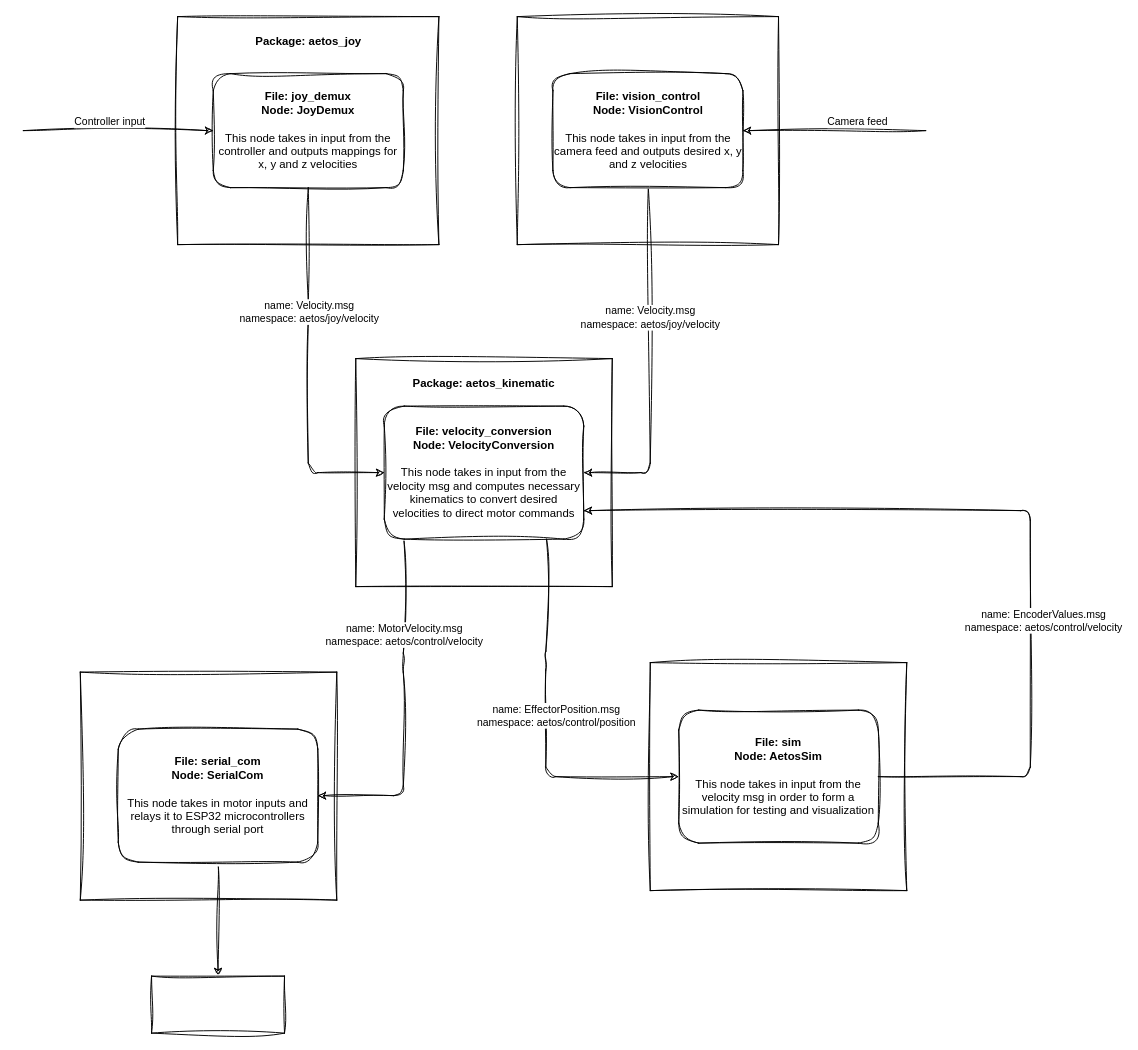
The diagram is 1138 pixels wide and 1050 high, and some of its shapes have lost their labels. The shapes that lost their labels are listed below. From the top down, each one's box as (x1, y1, x2, y2) in pixels, then its label:
(516, 16, 779, 245): Package: aetos_vision
(79, 671, 337, 900): Package: aetos_com
(649, 662, 907, 891): Package: aetos_sim (python pkg)
(151, 975, 285, 1033): ESP32
